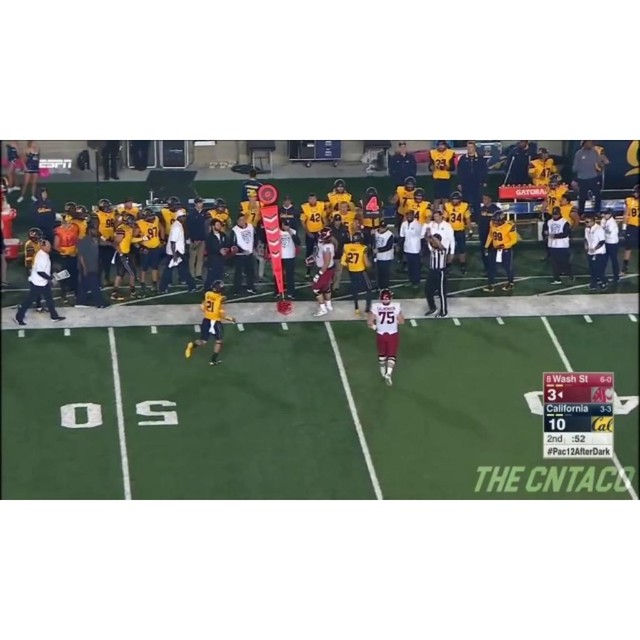american-football-player: (183, 280, 231, 366), (366, 289, 405, 386)
referee: (421, 230, 452, 319)
